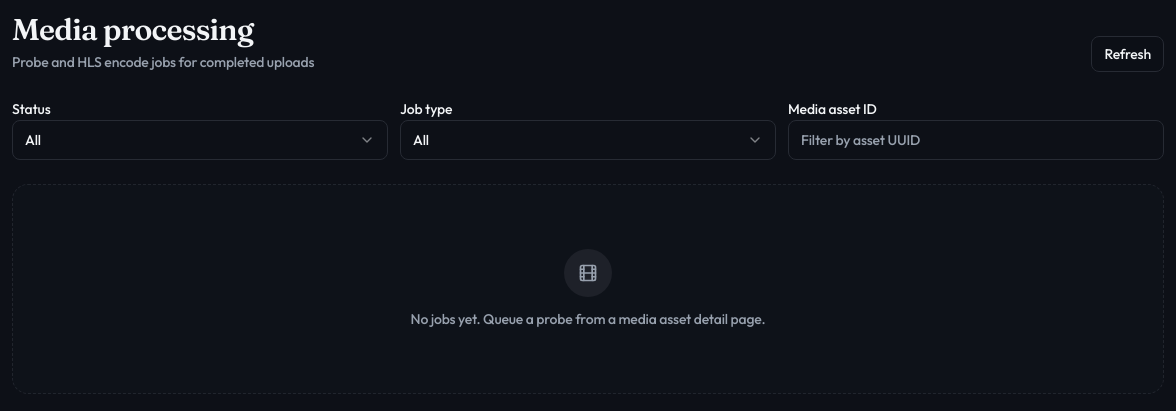
Test case: media processing admin UI › renders processing jobs page empty and error states
Expected: the element with test id "empty-state" is shown, [12,184,1164,394]
What coordinates should you click on to do the following:
click the button "Refresh"
I would click on:
 (1128, 54)
Its box is [1091,36,1164,72].
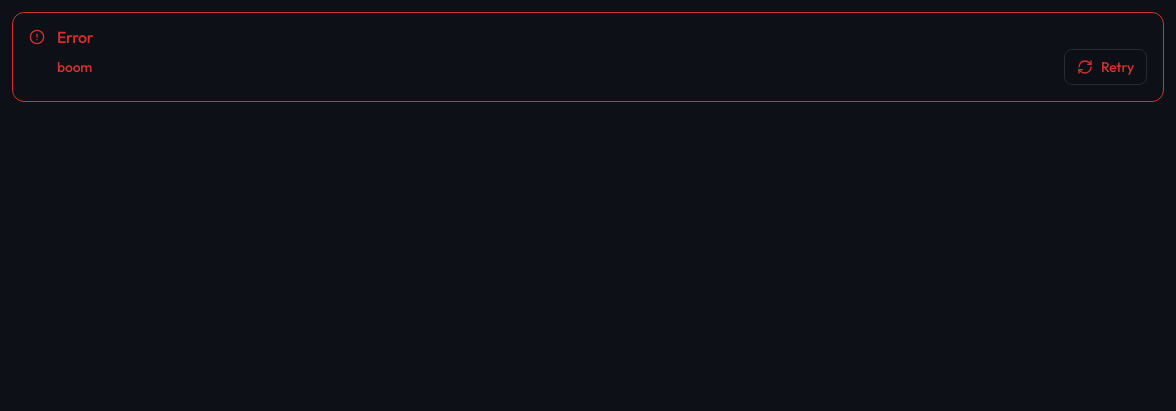
Expected: the message "Error boom Retry" is shown, [12,12,1164,102]
